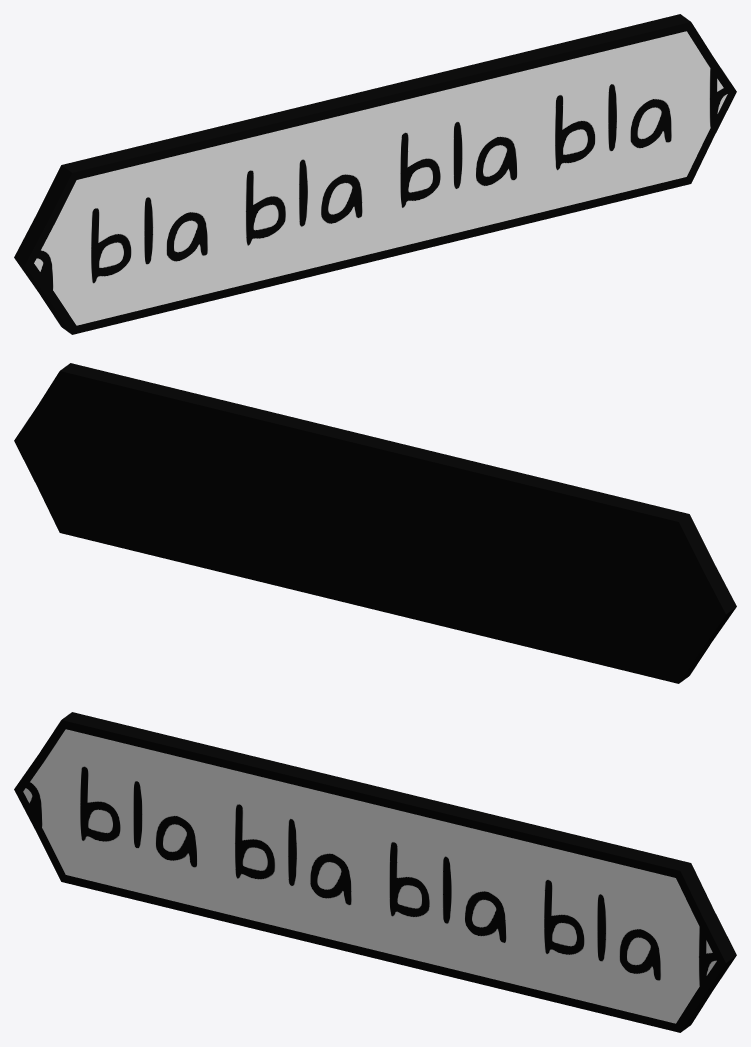
File: mdl_poland_poempieces_8.gltf
3 views of the same model, one above another, from view 1: azimuth 30°, elevation 25°; view 2: azimuth 150°, elevation 25°; view 3: azimuth 330°, elevation 25° (orthographic).
Parts seen in each view (by area): view 1: Plane.010; view 2: Plane.010; view 3: Plane.010.
Boxes of the visible parts, x1,y1,x2,y2 form: Plane.010: [14, 14, 736, 334]; Plane.010: [14, 363, 736, 683]; Plane.010: [14, 712, 736, 1032].
Bounding box in the file's own units: 1.15 × 0.25 × 0.0304.
Materials: 2 (2 with a texture image).
